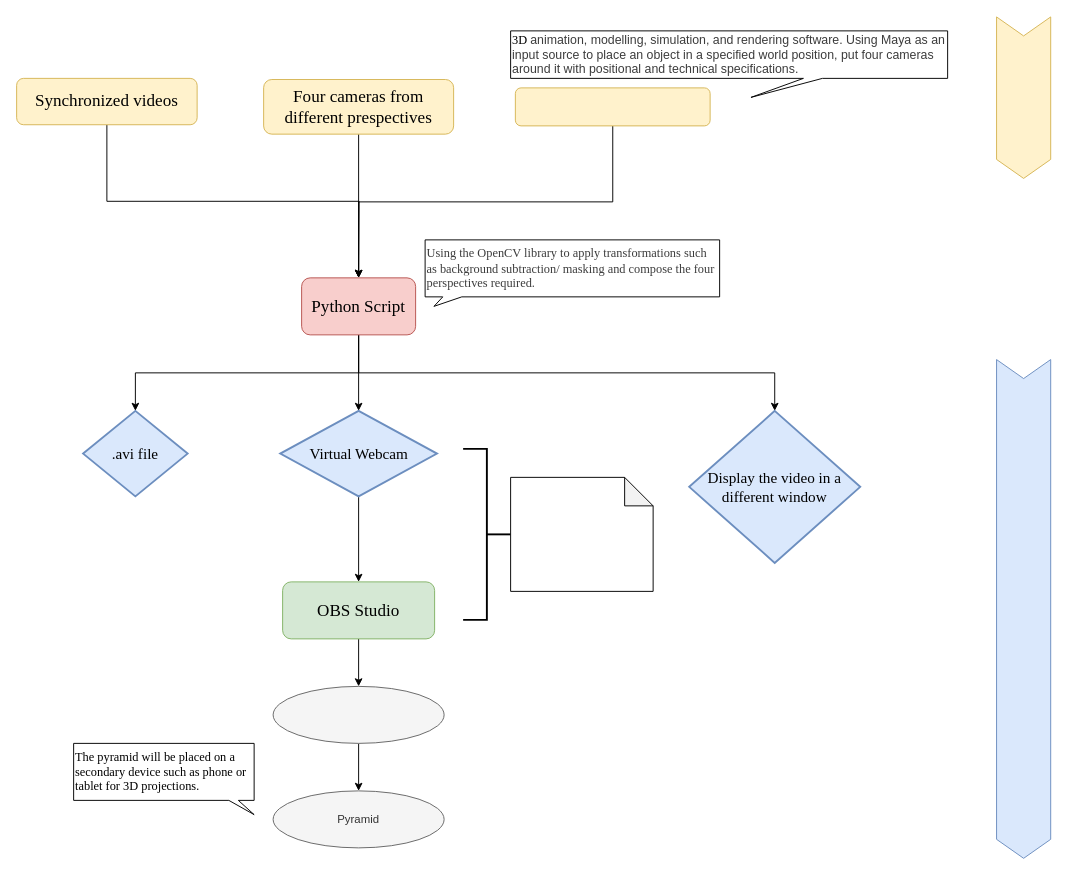
The diagram is 1068 pixels wide and 875 high, and some of its shapes have lost their labels. Here are the shapes that lost their labels. From the top down, the box of each, then its label:
(514, 87, 710, 126): Autodesk Maya (Testing)
(996, 16, 1051, 178): Input Options
(510, 476, 653, 591): The data will be output as a virtual webcam source and redirected to OBS.
(996, 359, 1051, 858): Output Options
(272, 685, 444, 743): Video Conference Platform
